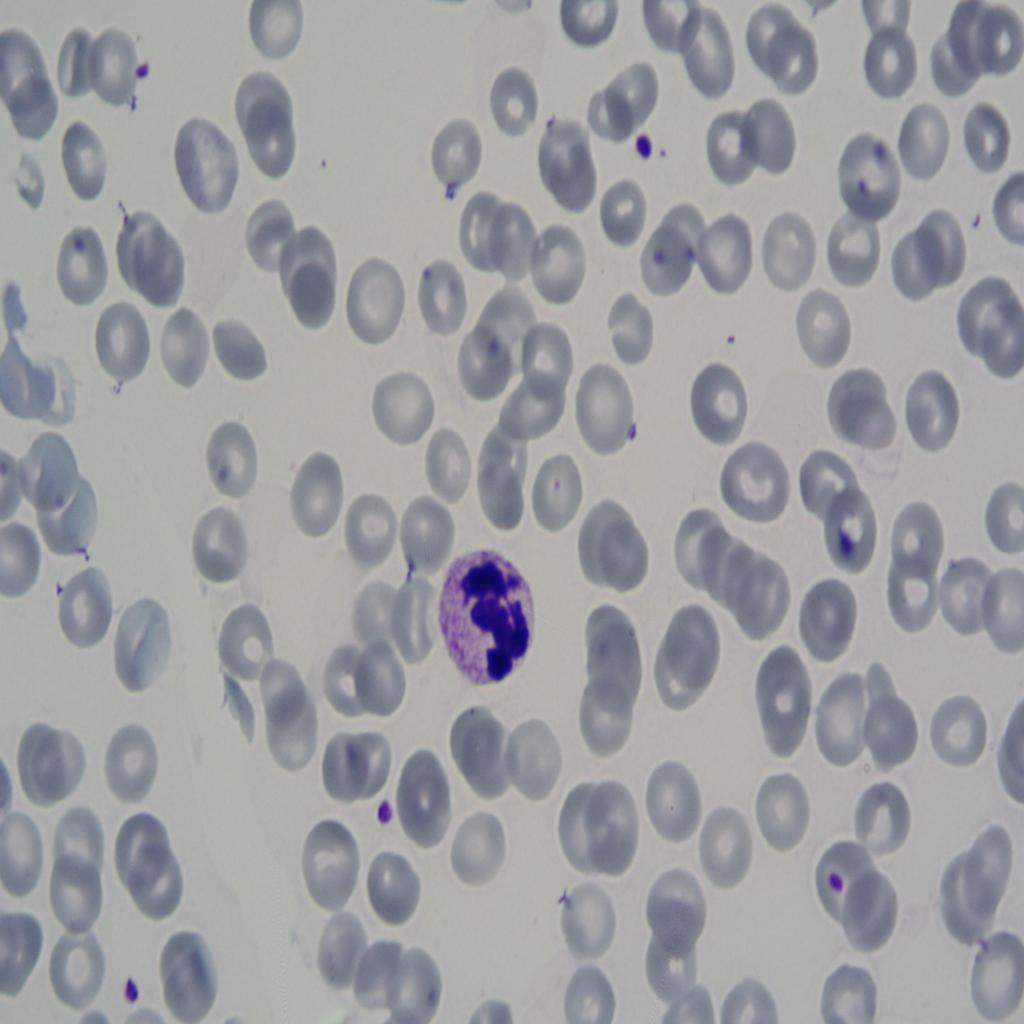Neutrofil: (439, 528, 544, 708)
Platelet: (370, 786, 399, 842), (116, 960, 147, 1012), (612, 404, 646, 445), (846, 177, 877, 219), (482, 325, 512, 365), (630, 121, 658, 161), (869, 132, 894, 176), (825, 856, 850, 897), (123, 47, 149, 85), (682, 235, 700, 278), (833, 529, 855, 564), (444, 172, 464, 200), (652, 243, 672, 270)
